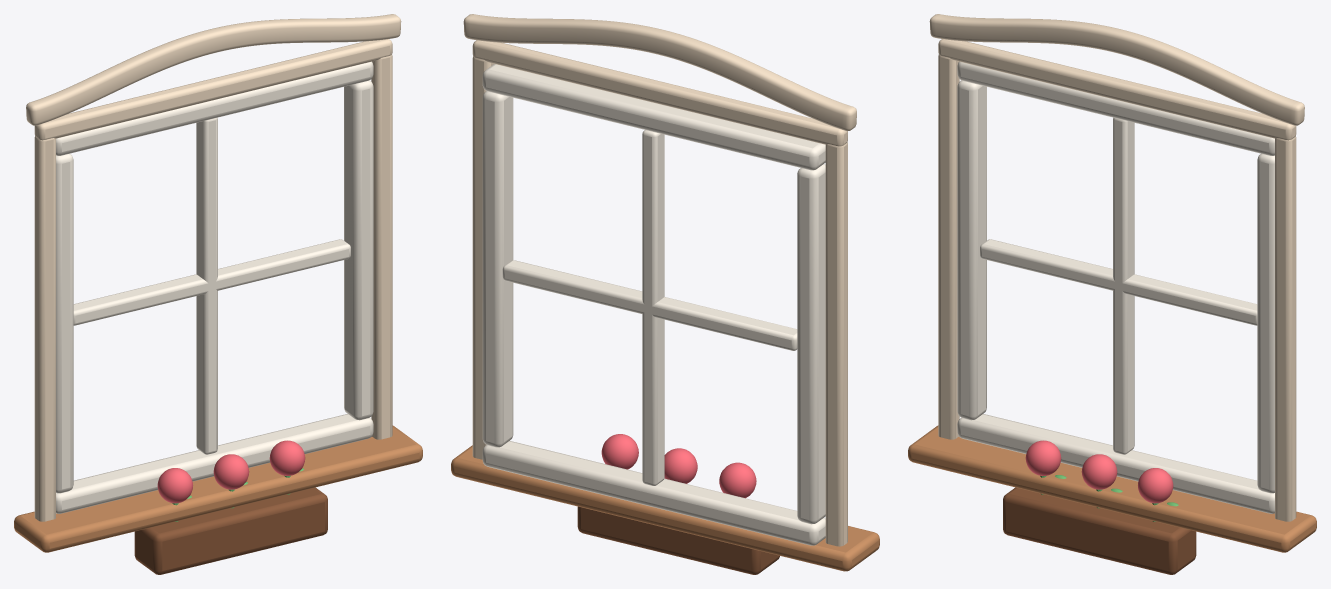
File: window.glb
The picture shows the model from 3 angles, left to right: view 1: azimuth 30°, elevation 25°; view 2: azimuth 150°, elevation 25°; view 3: azimuth 330°, elevation 25°; orthographic projection. The views are drawn at different scales.
Visible parts, largest first — view 1: Sill, FrameR, Pediment, FlowerBox, CasingL, CasingTop, FrameBottom, CasingR, MullionV, FrameL, FrameTop, MullionH (+3 smaller); view 2: FrameR, Pediment, FrameBottom, FrameL, FrameTop, CasingL, Sill, CasingTop, MullionV, MullionH, FlowerBox, CasingR (+3 smaller); view 3: Sill, FrameL, Pediment, FlowerBox, CasingR, CasingTop, FrameBottom, CasingL, MullionV, FrameR, FrameTop, MullionH (+3 smaller).
Boxes of the visible parts, bbox=[...] form: Sill: bbox=[14, 425, 422, 552]; FrameR: bbox=[344, 80, 373, 420]; Pediment: bbox=[26, 14, 401, 125]; FlowerBox: bbox=[134, 487, 327, 574]; CasingL: bbox=[34, 136, 55, 521]; CasingTop: bbox=[34, 39, 392, 140]; FrameBottom: bbox=[56, 414, 373, 513]; CasingR: bbox=[371, 54, 392, 439]; MullionV: bbox=[196, 117, 217, 454]; FrameL: bbox=[56, 153, 73, 493]; FrameTop: bbox=[56, 61, 373, 155]; MullionH: bbox=[73, 239, 350, 325]; FrameR: bbox=[482, 91, 513, 447]; Pediment: bbox=[463, 14, 856, 131]; FrameBottom: bbox=[482, 440, 825, 545]; FrameL: bbox=[797, 164, 825, 524]; FrameTop: bbox=[482, 64, 825, 170]; CasingL: bbox=[825, 142, 847, 546]; Sill: bbox=[451, 445, 879, 571]; CasingTop: bbox=[472, 40, 847, 146]; MullionV: bbox=[642, 130, 664, 485]; MullionH: bbox=[502, 260, 797, 350]; FlowerBox: bbox=[577, 506, 779, 574]; CasingR: bbox=[472, 56, 493, 459]; Sill: bbox=[908, 425, 1316, 552]; FrameL: bbox=[957, 80, 986, 420]; Pediment: bbox=[929, 14, 1304, 125]; FlowerBox: bbox=[1003, 487, 1196, 574]; CasingR: bbox=[1275, 136, 1296, 521]; CasingTop: bbox=[938, 39, 1296, 140]; FrameBottom: bbox=[957, 414, 1274, 513]; CasingL: bbox=[938, 54, 959, 439]; MullionV: bbox=[1113, 117, 1134, 454]; FrameR: bbox=[1257, 153, 1274, 493]; FrameTop: bbox=[957, 61, 1274, 155]; MullionH: bbox=[980, 239, 1257, 325].
Size of the model in its own units: 1.36 by 1.72 by 0.26.
